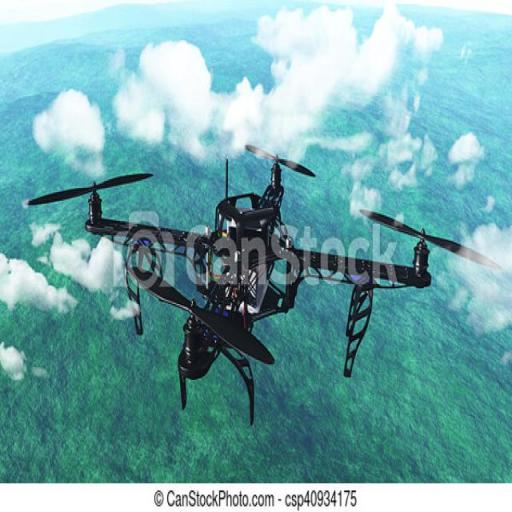uav: (26, 138, 494, 434)
